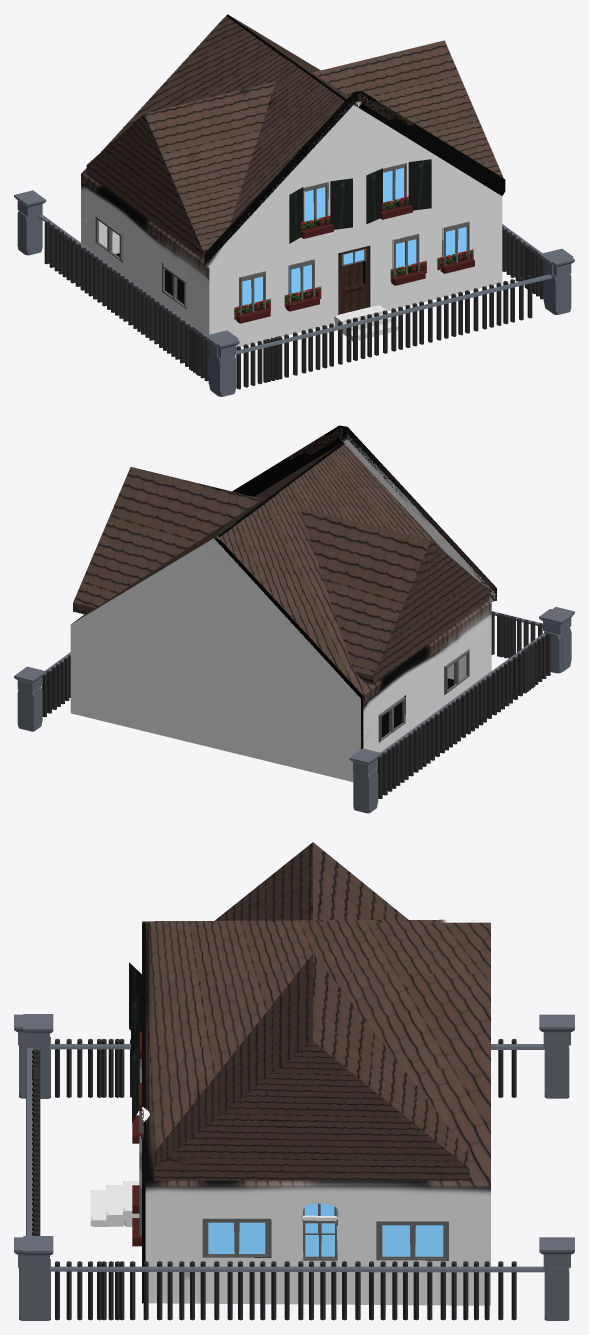
File: building_7.glb
3 views of the same model, one above another, from view 1: azimuth 30°, elevation 25°; view 2: azimuth 150°, elevation 25°; view 3: azimuth 270°, elevation 25° (orthographic). The views are drawn at different scales.
Visible parts, largest first — view 1: Cube_0, Cube.001_4, Cube.008_35, Cube.010_37, Cube.009_36, Plane.012_17, Plane.013_24, Plane.014_26, Plane.001_6, Plane.003_8, Plane.002_7, Plane.005_10 (+5 smaller); view 2: Cube_0, Cube.001_4, Cube.010_37, Cube.009_36, Cube.008_35; view 3: Cube_0, Cube.001_4, Cube.009_36, Cube.010_37, Cube.008_35, Plane.007_12, Plane.006_11, Plane.008_13, Cube.012_39, Cube.013_40.
Part boxes in pixels (x1,y1,x2,y2): Cube_0: (81, 14, 505, 347); Cube.001_4: (86, 40, 503, 258); Cube.008_35: (204, 248, 573, 390); Cube.010_37: (14, 190, 239, 396); Cube.009_36: (502, 224, 574, 314); Plane.012_17: (338, 245, 370, 314); Plane.013_24: (408, 159, 431, 210); Plane.014_26: (330, 178, 352, 229); Plane.001_6: (303, 182, 328, 221); Plane.003_8: (239, 271, 265, 314); Plane.002_7: (288, 259, 314, 302); Plane.005_10: (443, 221, 469, 265); Cube_0: (70, 425, 496, 781); Cube.001_4: (73, 467, 489, 684); Cube.010_37: (349, 607, 574, 813); Cube.009_36: (14, 652, 70, 731); Cube.008_35: (491, 609, 572, 673); Cube_0: (142, 919, 490, 1305); Cube.001_4: (154, 842, 469, 1180); Cube.009_36: (14, 1237, 574, 1320); Cube.010_37: (14, 1014, 574, 1098); Cube.008_35: (23, 1014, 53, 1320); Plane.007_12: (376, 1221, 448, 1260); Plane.006_11: (202, 1218, 270, 1257); Plane.008_13: (302, 1219, 337, 1260); Cube.012_39: (106, 1185, 125, 1226); Cube.013_40: (90, 1190, 110, 1226).
Bounding box in the file's own units: 11.15 × 6.88 × 11.15.
Materials: 11 (5 with a texture image).
